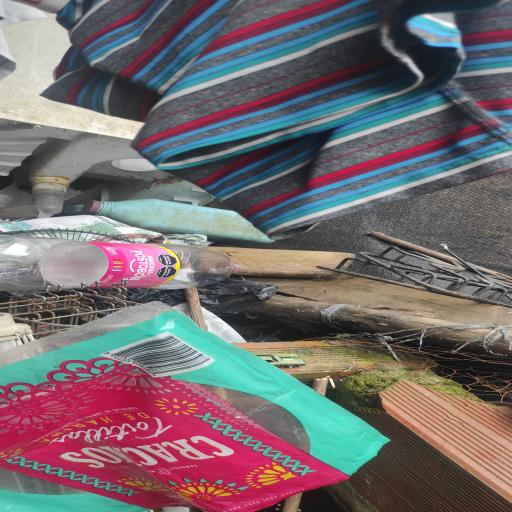Carrito: (256, 353, 306, 368)
